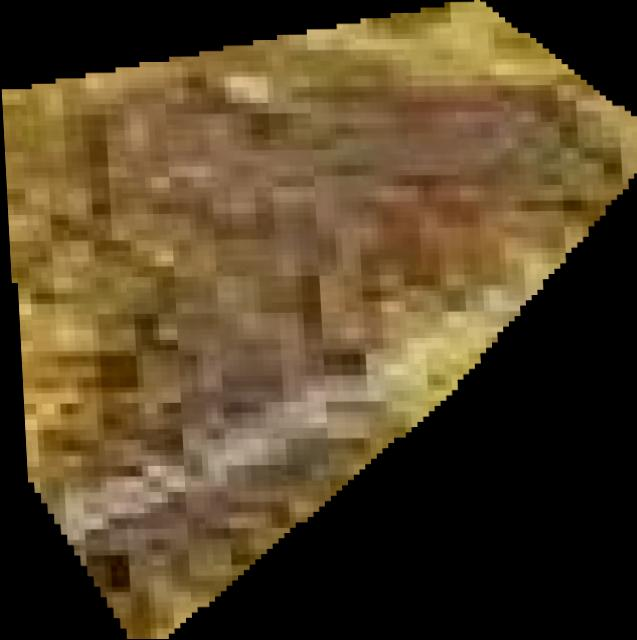Pitting Corrosion: (1, 0, 637, 639)
